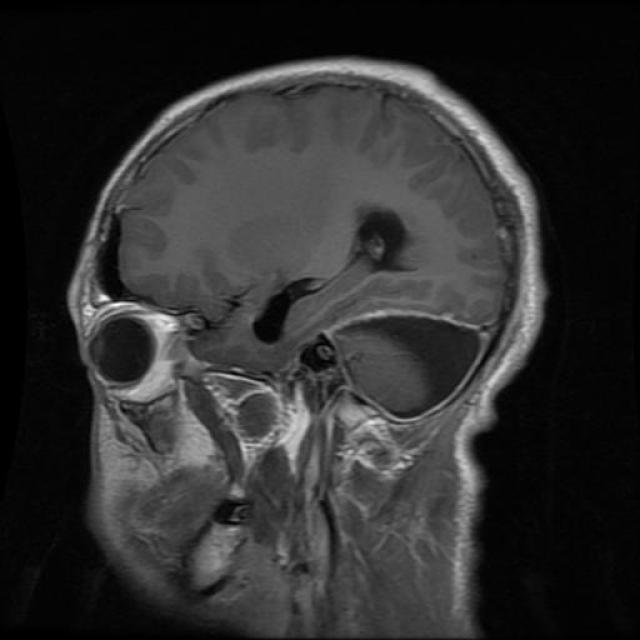brain_tumor: (334, 318, 478, 417)
